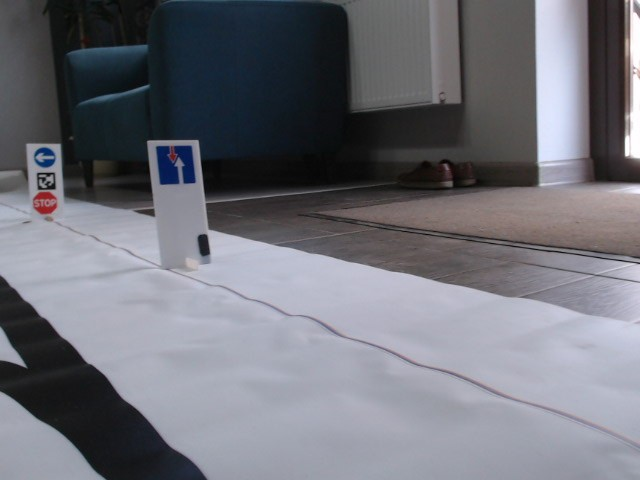Stop: (32, 191, 59, 215)
priority_movement: (155, 145, 198, 187)
